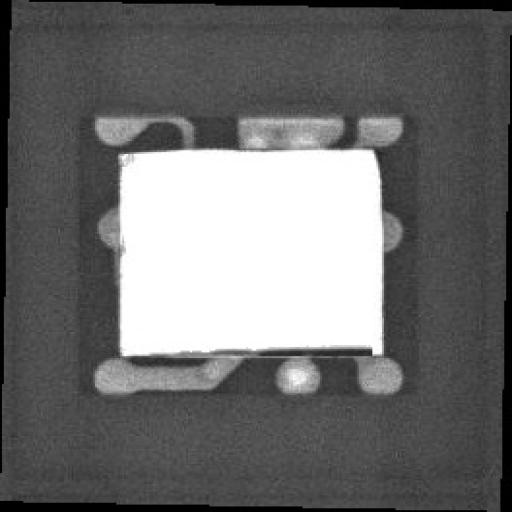DIE_BROKEN: (188, 338, 378, 358)
